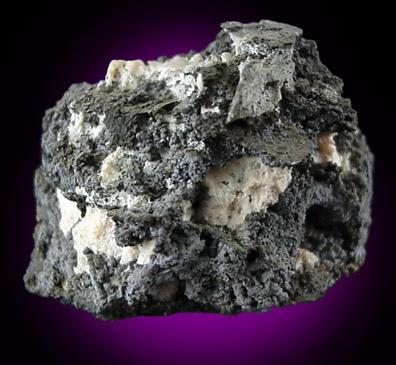silver: (223, 20, 303, 124), (58, 190, 155, 274), (200, 156, 292, 226), (106, 53, 205, 88), (101, 152, 121, 184)
